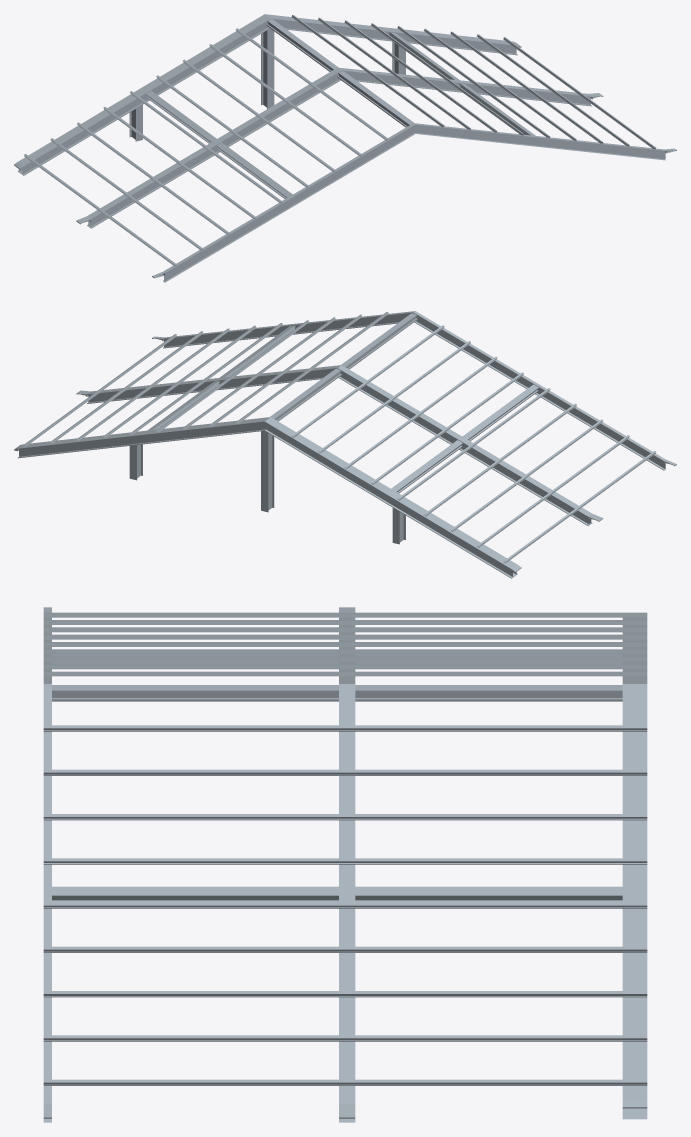
File: SM06_Building_Structure_Roof_Gable_02_Corner.fbx
The picture shows the model from 3 angles, top to bottom: view 1: azimuth 30°, elevation 25°; view 2: azimuth 150°, elevation 25°; view 3: azimuth 270°, elevation 25°; orthographic projection. The views are drawn at different scales.
Parts seen in each view (by area): view 1: SM06_Building_Structure_Roof_Gable_02_Corner; view 2: SM06_Building_Structure_Roof_Gable_02_Corner; view 3: SM06_Building_Structure_Roof_Gable_02_Corner.
Boxes of the visible parts, x1,y1,x2,y2 form: SM06_Building_Structure_Roof_Gable_02_Corner: (14,14,676,282); SM06_Building_Structure_Roof_Gable_02_Corner: (14,311,676,578); SM06_Building_Structure_Roof_Gable_02_Corner: (43,607,647,1122).
Size of the model in its own units: 28.84 by 5.12 by 14.42.
